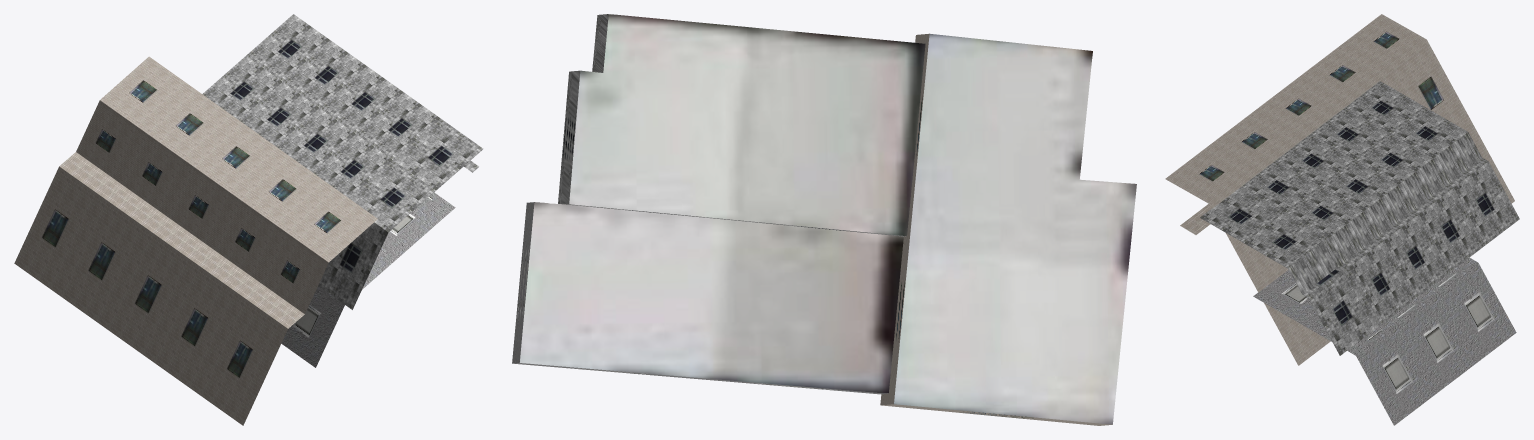
The picture shows the model from 3 angles, left to right: view 1: azimuth 30°, elevation 25°; view 2: azimuth 150°, elevation 25°; view 3: azimuth 270°, elevation 25°; orthographic projection. The views are drawn at different scales.
Bounding box in the file's own units: 27.58 × 20.1 × 22.1.
10 materials, 10 textured.
